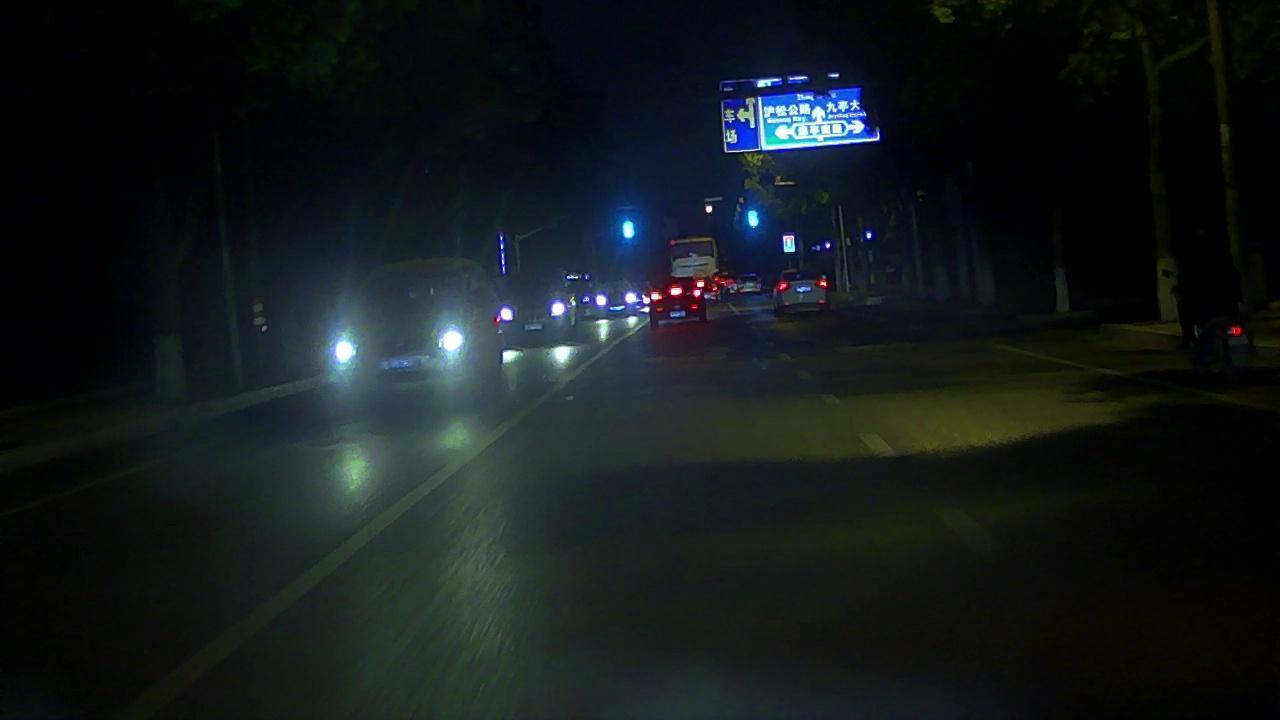traffic_light: (616, 211, 639, 245), (741, 204, 762, 232)
